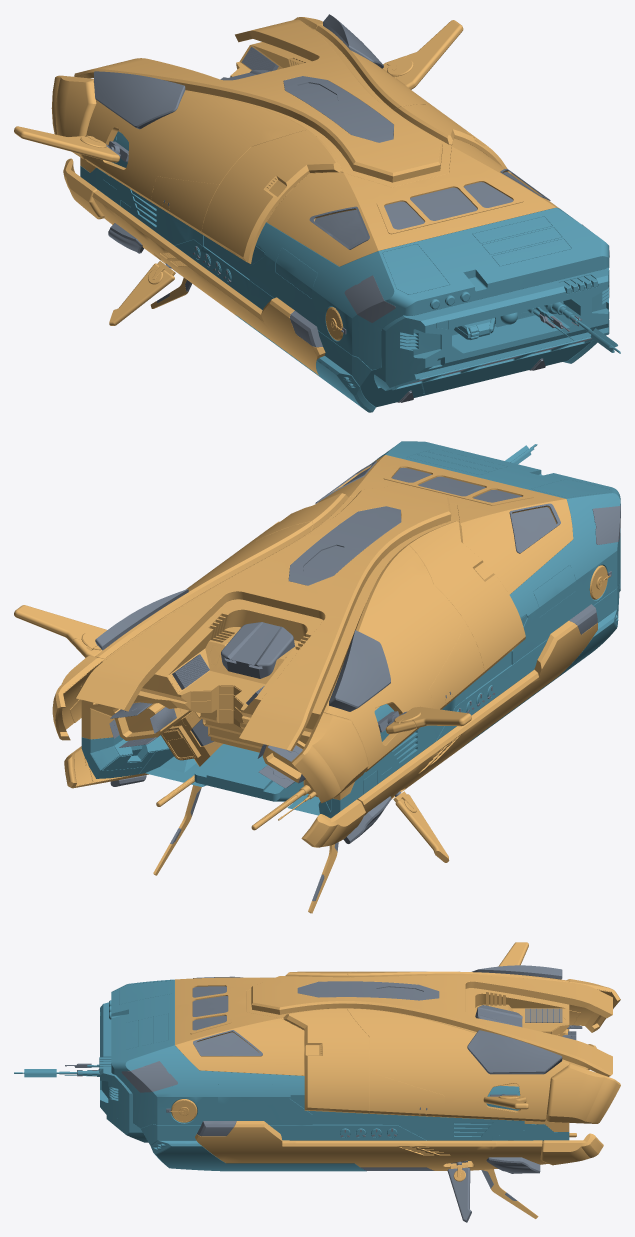
Rendered from SUP_Transport_shuttle.glb.
3 renders of one model, top to bottom at view 1: azimuth 30°, elevation 25°; view 2: azimuth 150°, elevation 25°; view 3: azimuth 270°, elevation 25°, orthographic. The views are drawn at different scales.
Visible parts, largest first — view 1: SUP_Transport_shuttle; view 2: SUP_Transport_shuttle; view 3: SUP_Transport_shuttle.
Part boxes in pixels (x1,y1,x2,y2): SUP_Transport_shuttle: (14, 14, 620, 412); SUP_Transport_shuttle: (14, 441, 620, 913); SUP_Transport_shuttle: (14, 942, 620, 1222).
Size of the model in its own units: 1698 by 977 by 2664.
